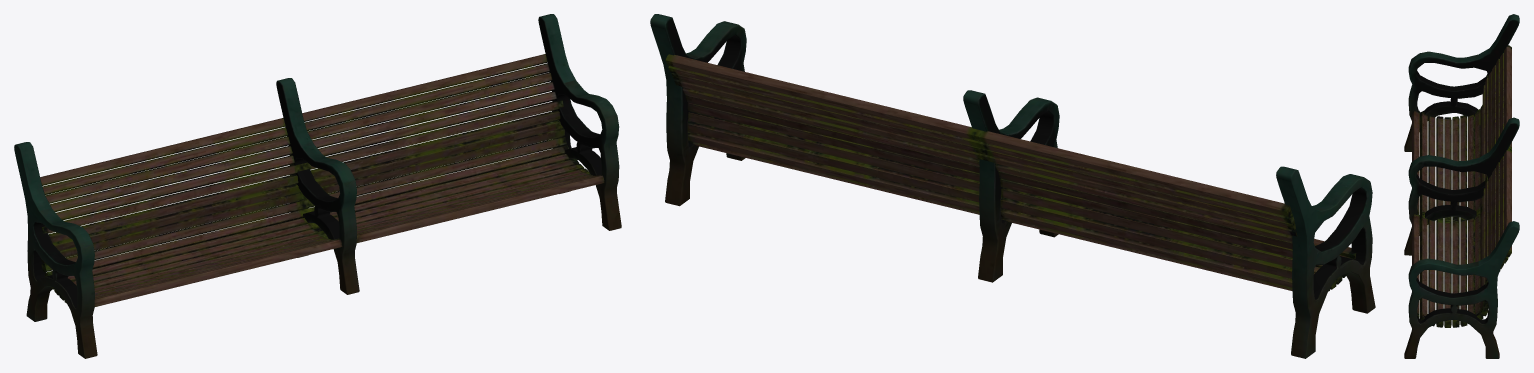
The model's file is park-bench.glb.
3 views of the same model, side by side, from view 1: azimuth 30°, elevation 25°; view 2: azimuth 150°, elevation 25°; view 3: azimuth 270°, elevation 25° (orthographic). The views are drawn at different scales.
Visible parts, largest first — view 1: Bench; view 2: Bench; view 3: Bench.
Part boxes in pixels (bbox=[...]): Bench: bbox=[14, 14, 621, 358]; Bench: bbox=[650, 14, 1375, 358]; Bench: bbox=[1404, 14, 1519, 358].
Bounding box in the file's own units: 6718977 × 1969536 × 1540359.
Materials: 2 (2 with a texture image).
